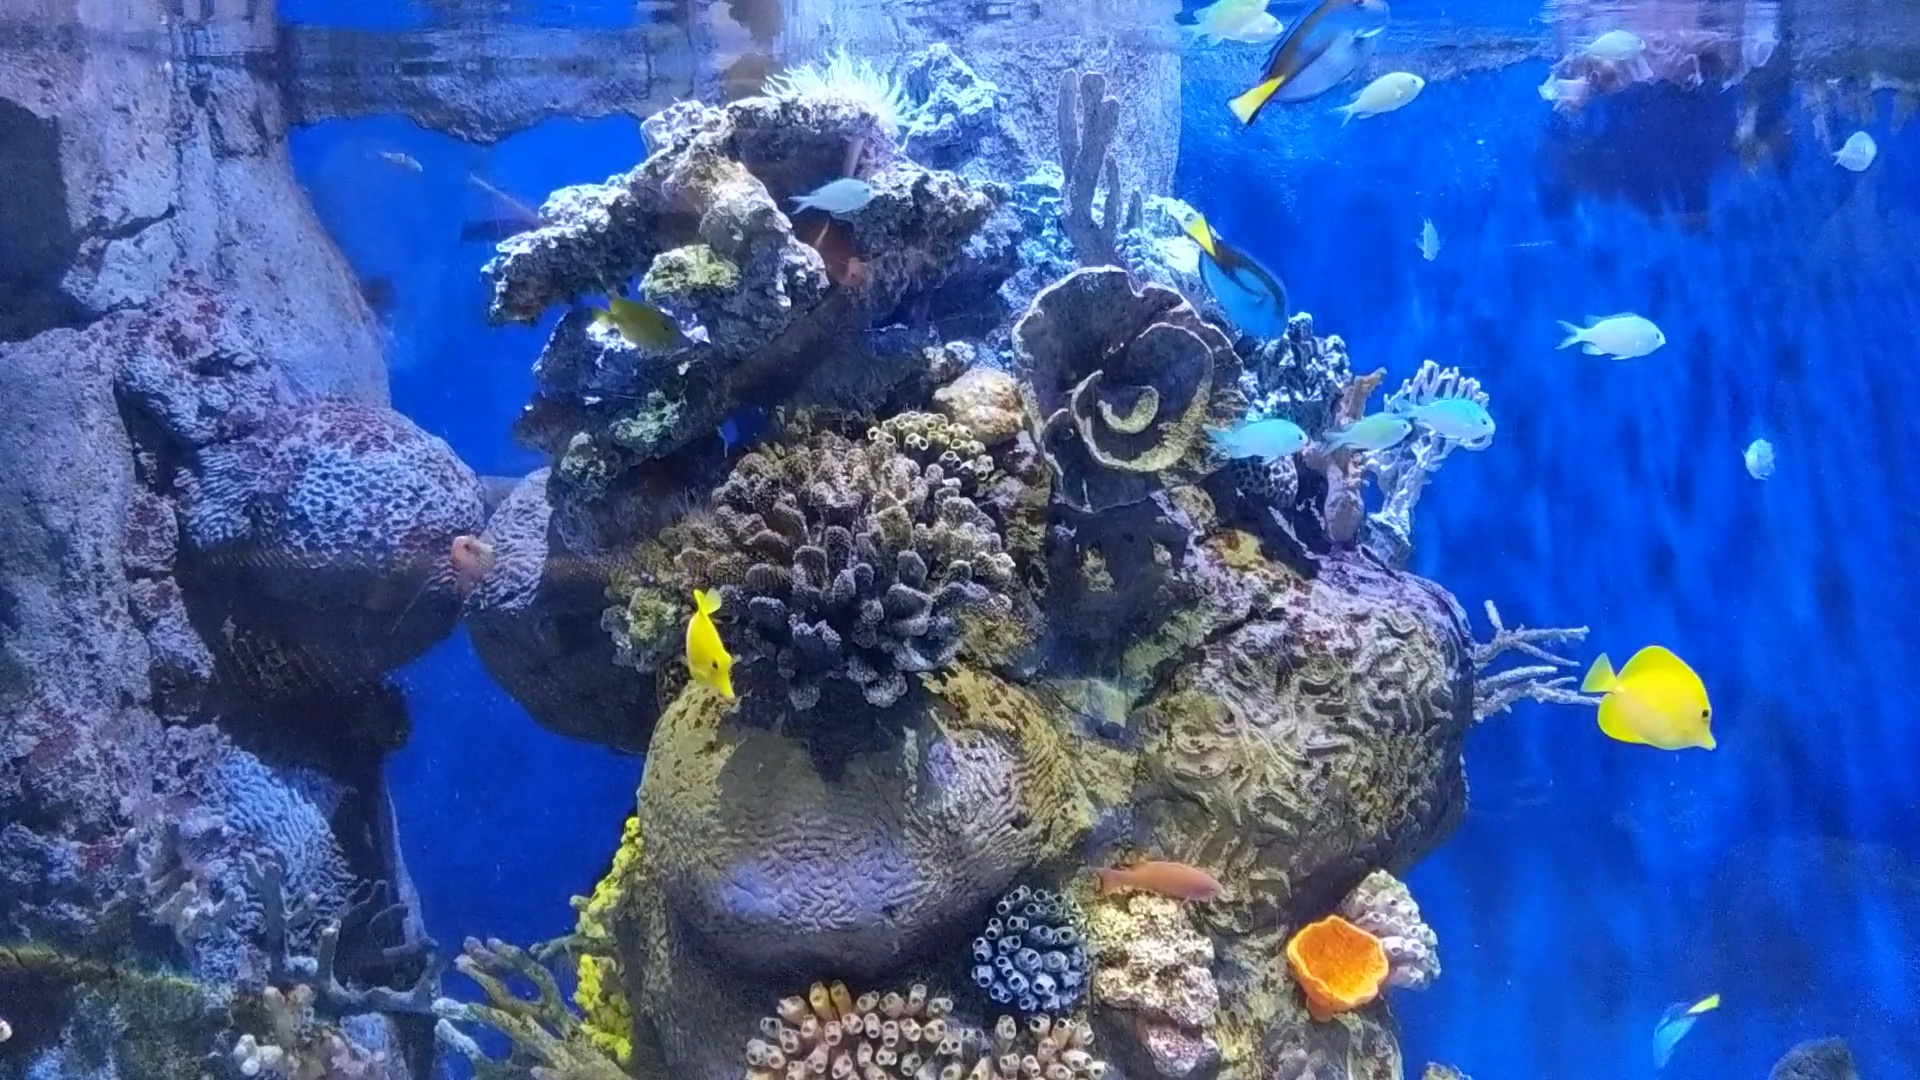damselfish: (1212, 3, 1425, 136), (1156, 200, 1321, 359), (1538, 281, 1710, 372), (1313, 71, 1455, 152), (1626, 988, 1741, 1080), (1178, 411, 1316, 481), (765, 177, 911, 229), (1319, 401, 1433, 468), (1385, 382, 1509, 438), (1735, 411, 1808, 500), (1395, 193, 1468, 280), (1170, 0, 1278, 58), (1815, 117, 1891, 198), (1559, 28, 1668, 70), (1187, 15, 1283, 37)
saddle butterfly fish: (1557, 636, 1756, 767), (653, 585, 783, 721), (589, 291, 711, 390)
